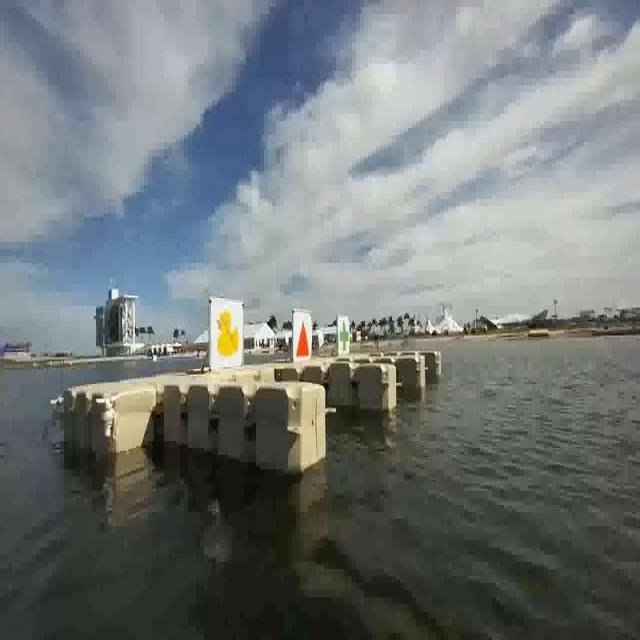blue-cross: (337, 315, 352, 359)
yellow-duck: (207, 298, 244, 366)
